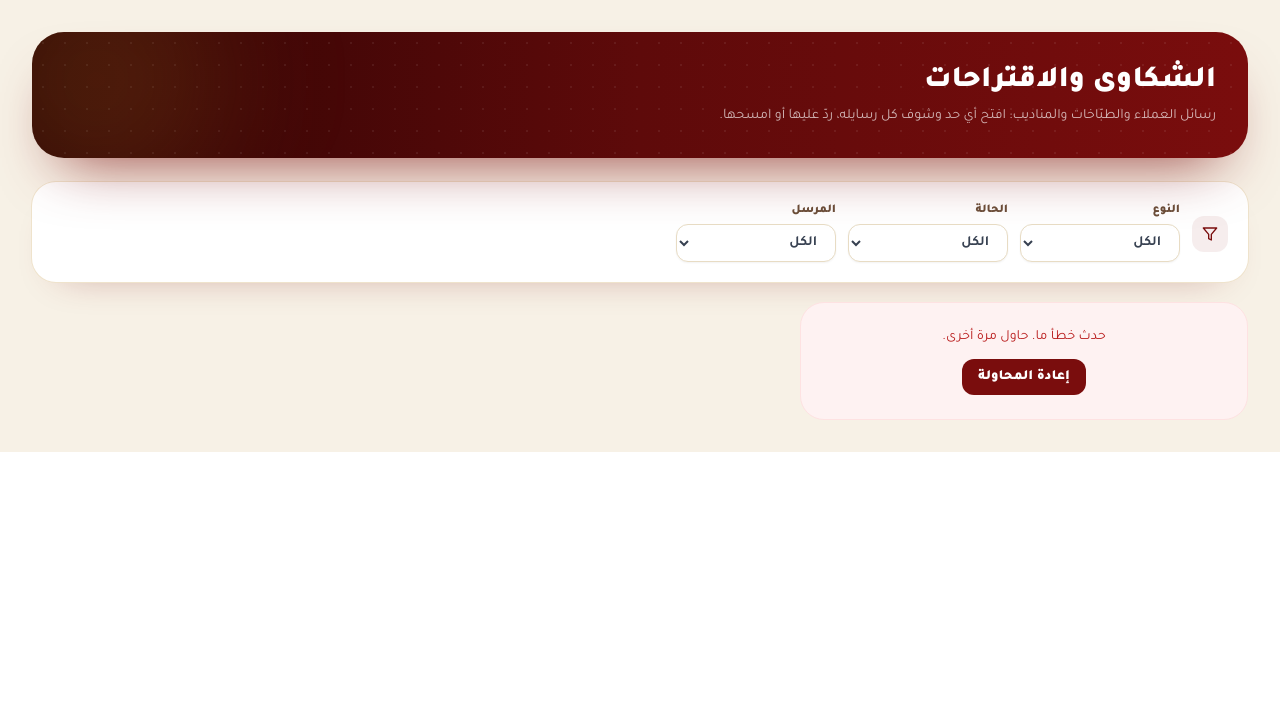
Scenario: Complaints & Suggestions — grouped by sender › an offline first load shows a screen error + Retry
Expected: the text "حدث خطأ ما. حاول مرة أخرى." is shown, [942,330,1106,344]
Click the button "إعادة المحاولة" at (1024, 377), box [962,359,1086,395]
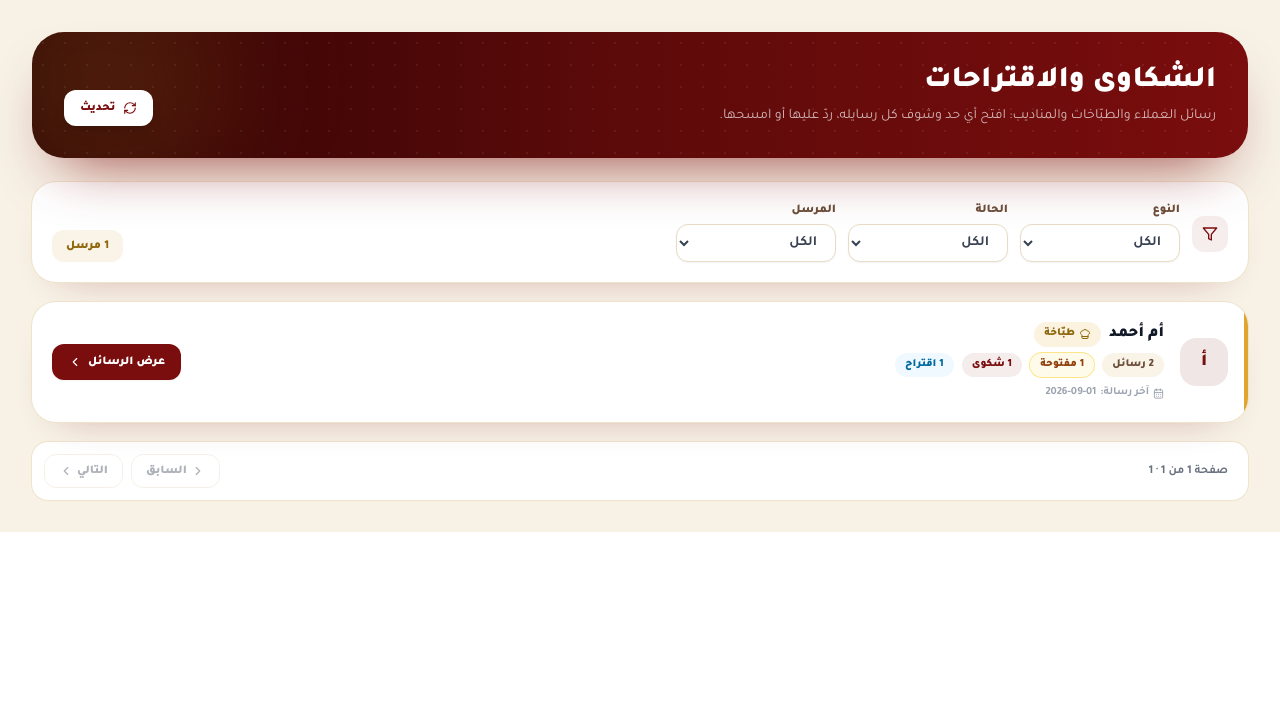
Result: the heading "أم أحمد" is shown at [1109,322,1164,346]
